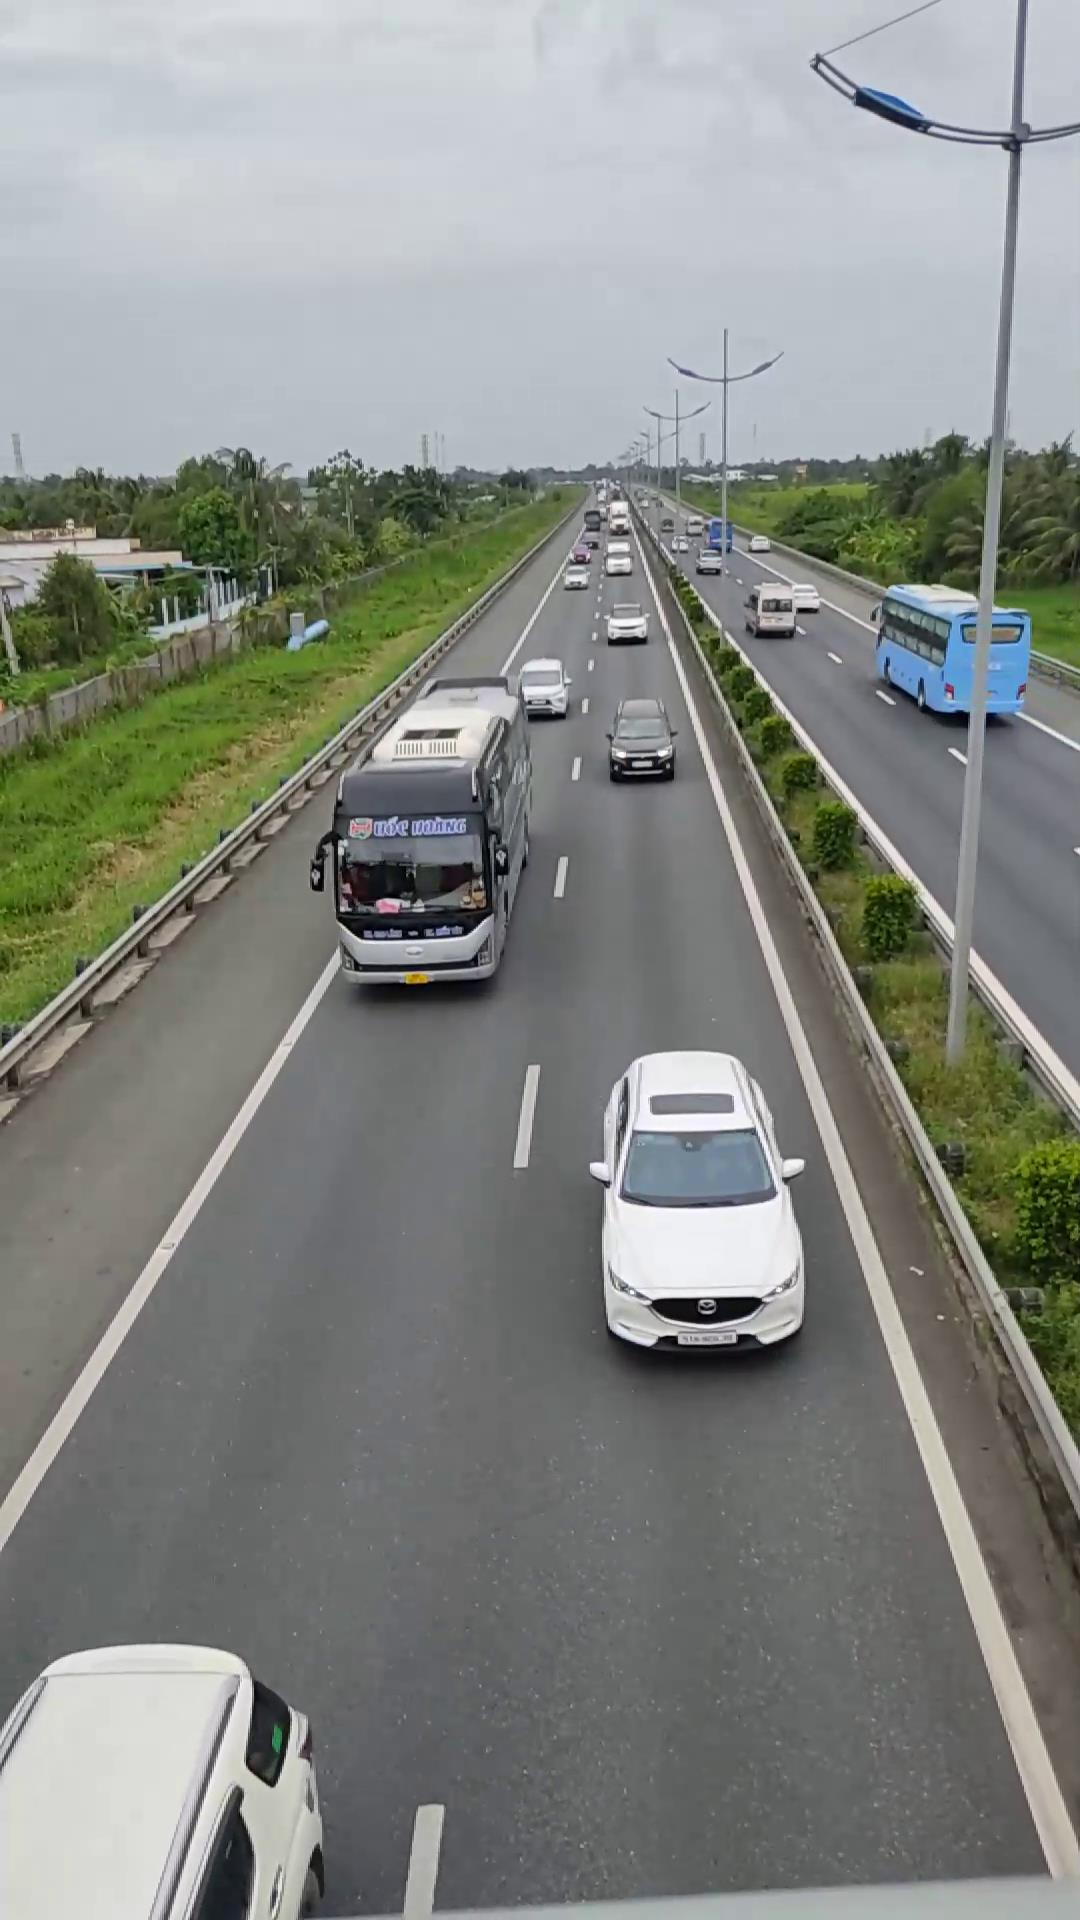bus: (319, 680, 534, 986)
car: (0, 1640, 331, 1919), (603, 698, 679, 781), (509, 657, 578, 717)
